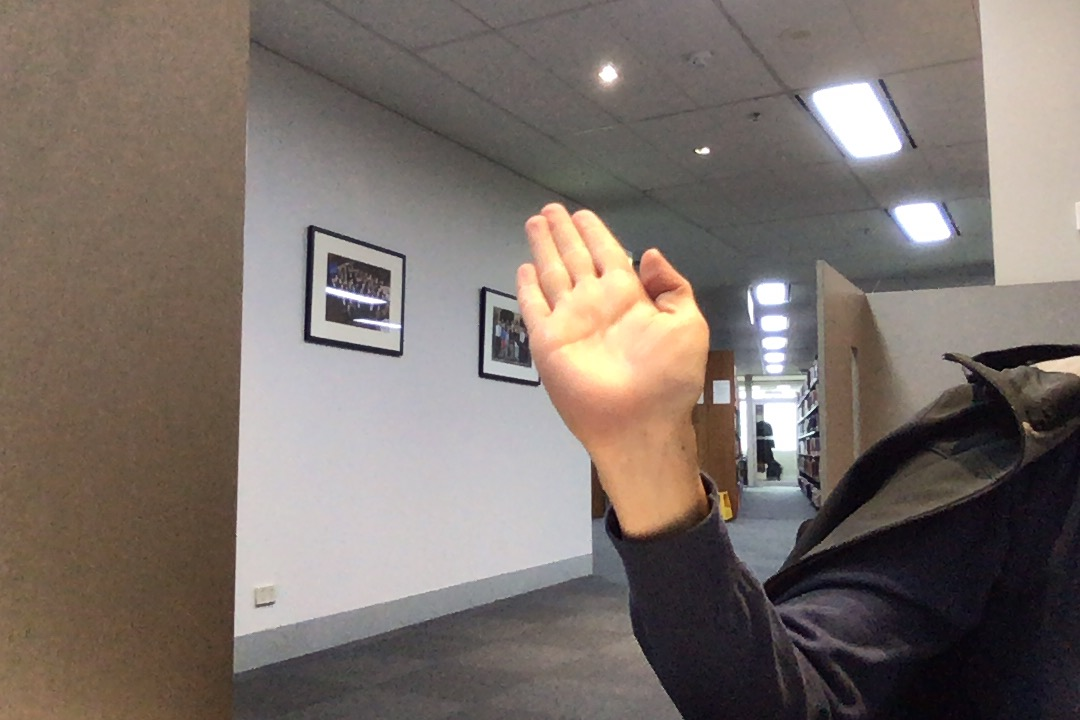palmhand: (498, 194, 723, 442)
